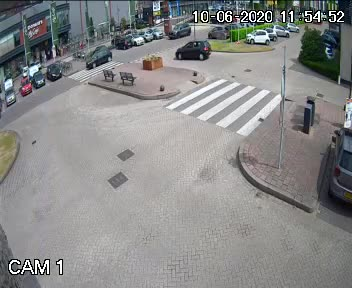car: (172, 39, 210, 60), (79, 46, 113, 68), (165, 21, 192, 36)
